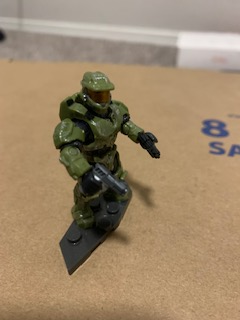chief: (53, 69, 139, 223)
pistol: (85, 160, 128, 202), (137, 125, 165, 168)
spartan: (51, 67, 137, 221)
